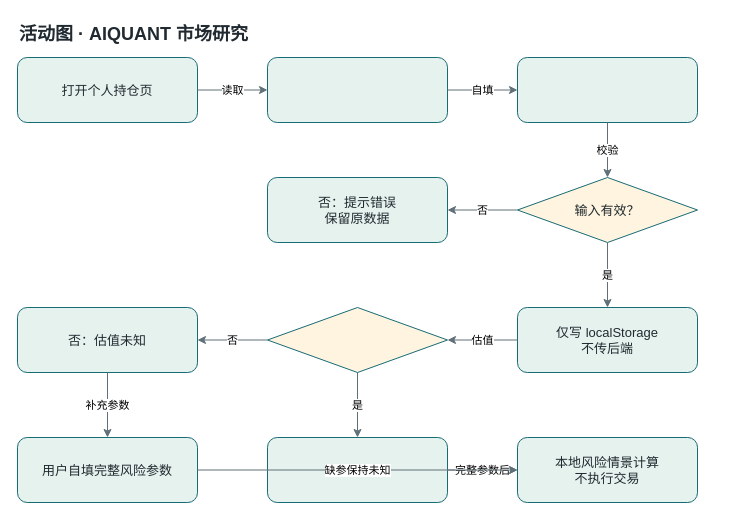
Some shapes in this 735 by 520 pixel diagram are drawn without their labels. Each missing label, with the centre of its shape:
"公开价格 + 本地持仓" belongs at point (357, 89).
"是：按币种估值 不跨币种求和" belongs at point (357, 469).
"用户输入 / 主动保存" belongs at point (607, 89).
"股票价格有效？" belongs at point (357, 339).
